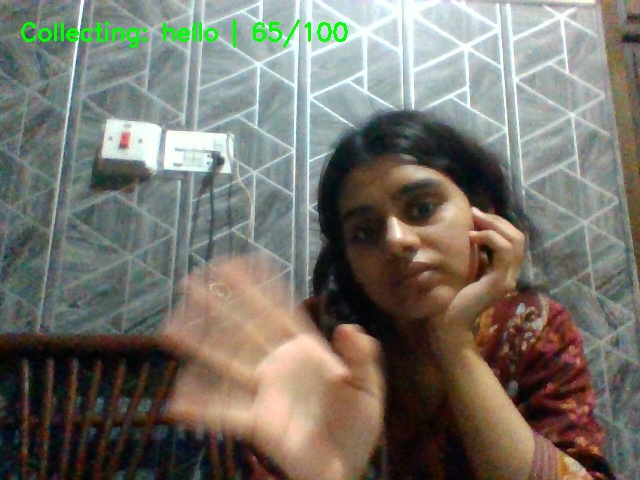hello: (140, 252, 393, 478)
